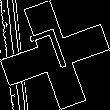L_S: (32, 26, 78, 84)
